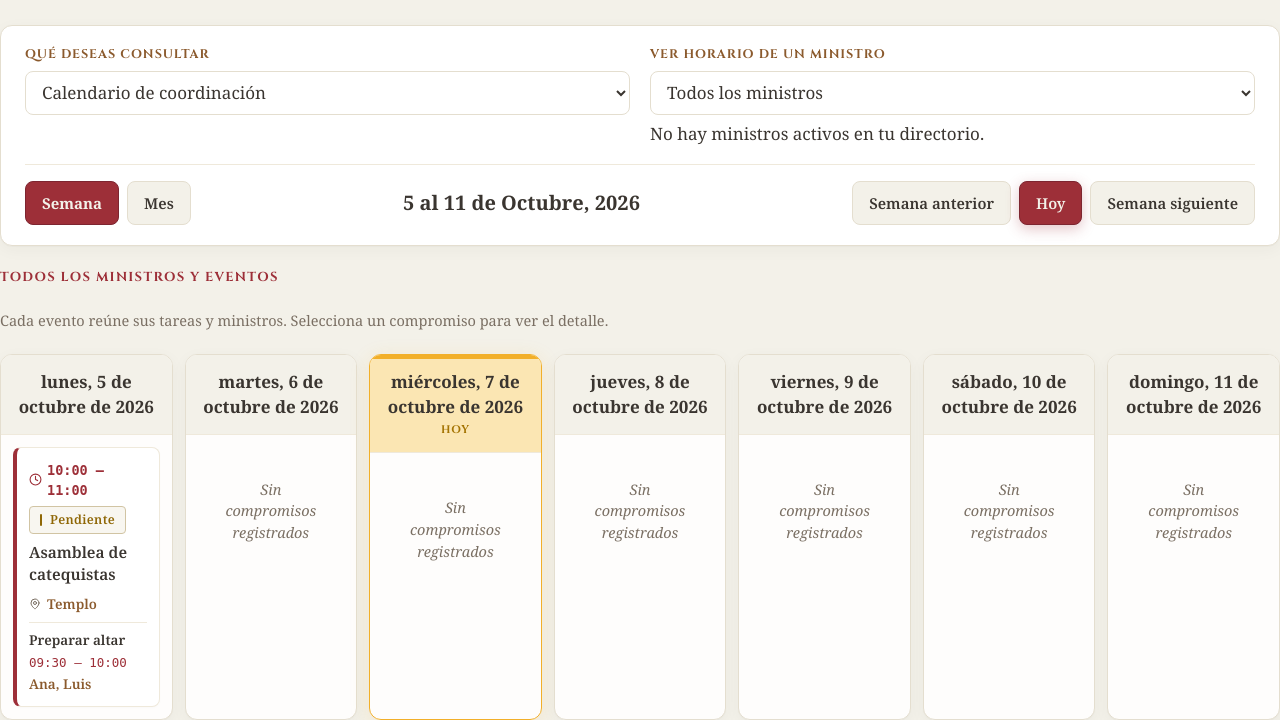
calendario unificado semanal › muestra el error del servidor si la aprobación falla, sin cerrar el detalle
(page scrolled)
Click the button with aria-label "Ver detalle del evento Asamblea de catequistas" at [86, 577], box 13,446 -> 160,707
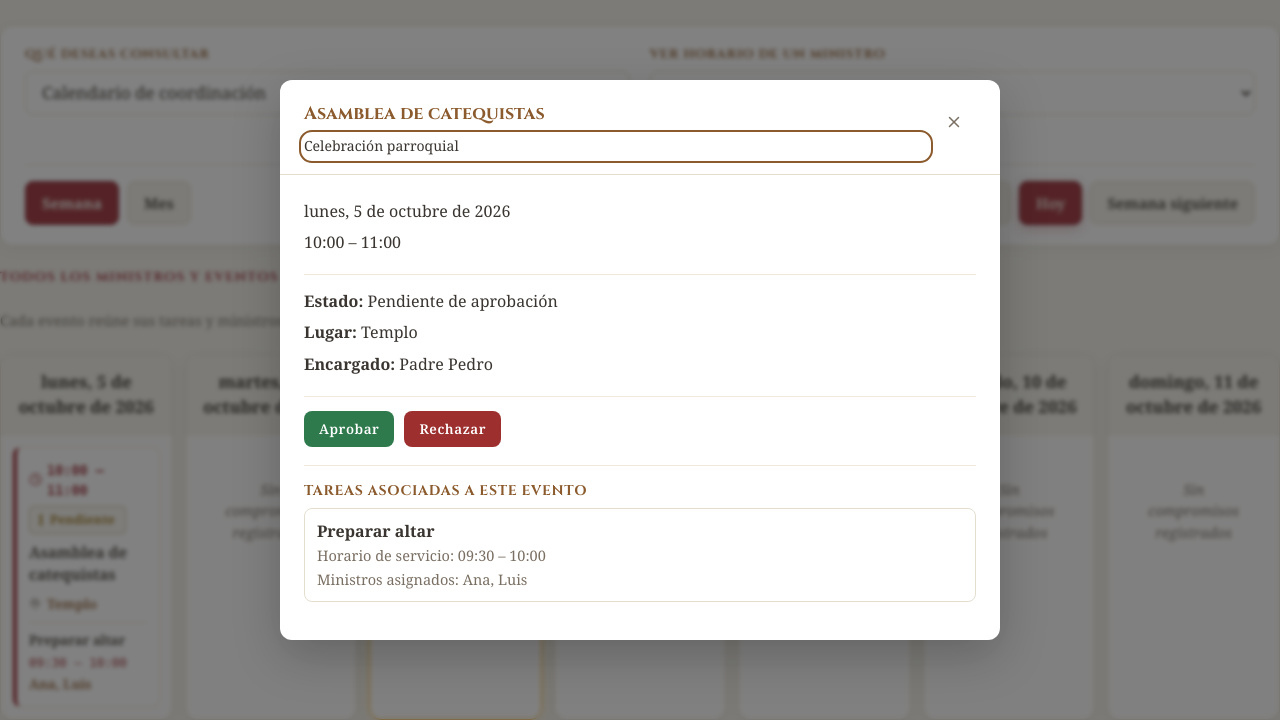
Click the button "Aprobar" at [349, 428], box 304,410 -> 394,446
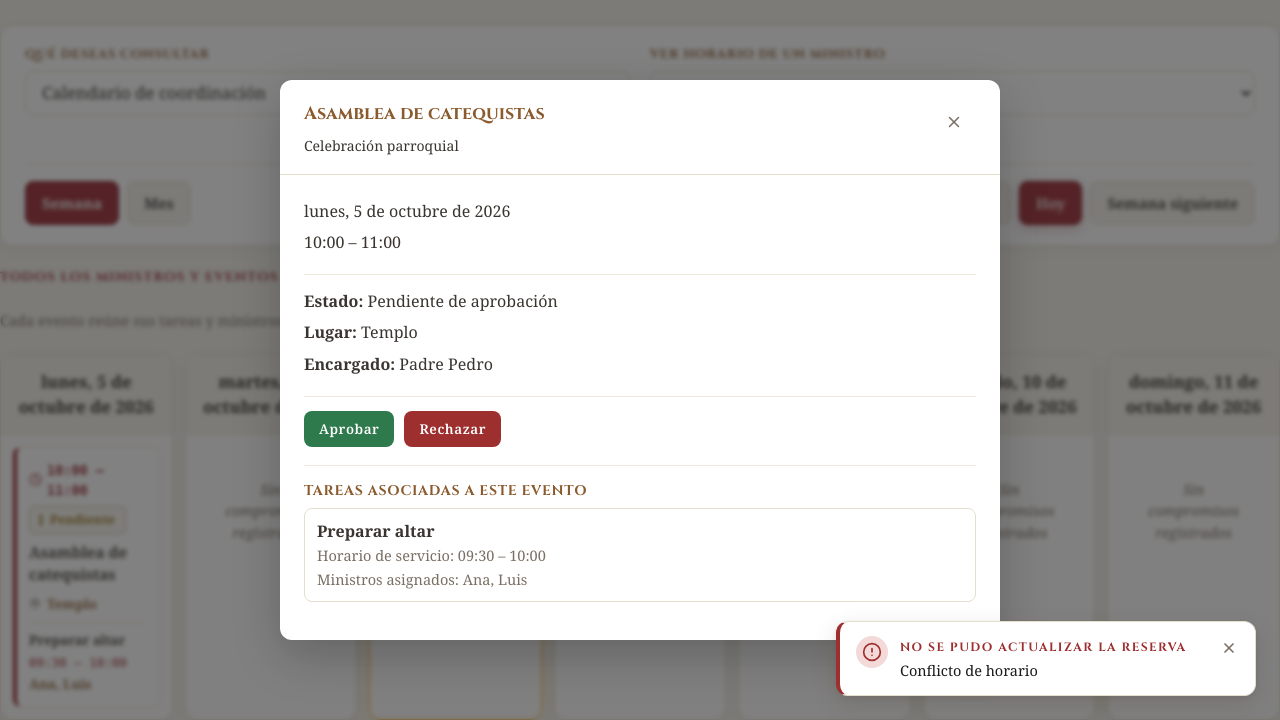
Check: the dialog is shown, box 280,80 -> 1000,640
Check: the message "No se pudo actualizar la reserva Conflicto de horario" is shown, box 836,621 -> 1256,696
